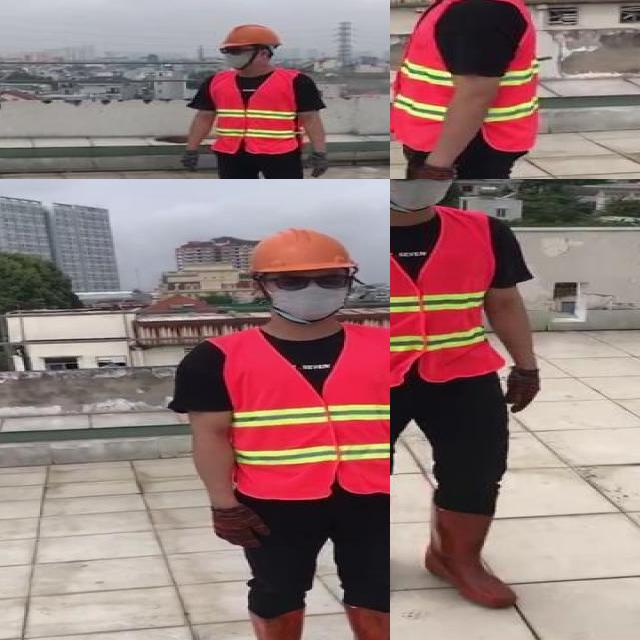boots: (426, 503, 514, 610), (249, 607, 306, 640), (344, 603, 390, 640)
face_mask: (390, 179, 459, 209), (214, 40, 259, 71)
glasses: (210, 42, 247, 58)
hand_glove: (505, 370, 541, 411), (408, 163, 463, 179), (307, 152, 330, 178), (179, 149, 200, 171)
head_helmet: (244, 224, 366, 280), (221, 23, 283, 52)
person: (156, 225, 390, 640), (390, 179, 557, 620), (390, 0, 545, 179), (170, 18, 340, 179)
vest: (219, 328, 390, 498), (390, 0, 541, 152), (390, 209, 496, 382), (212, 69, 300, 156)
